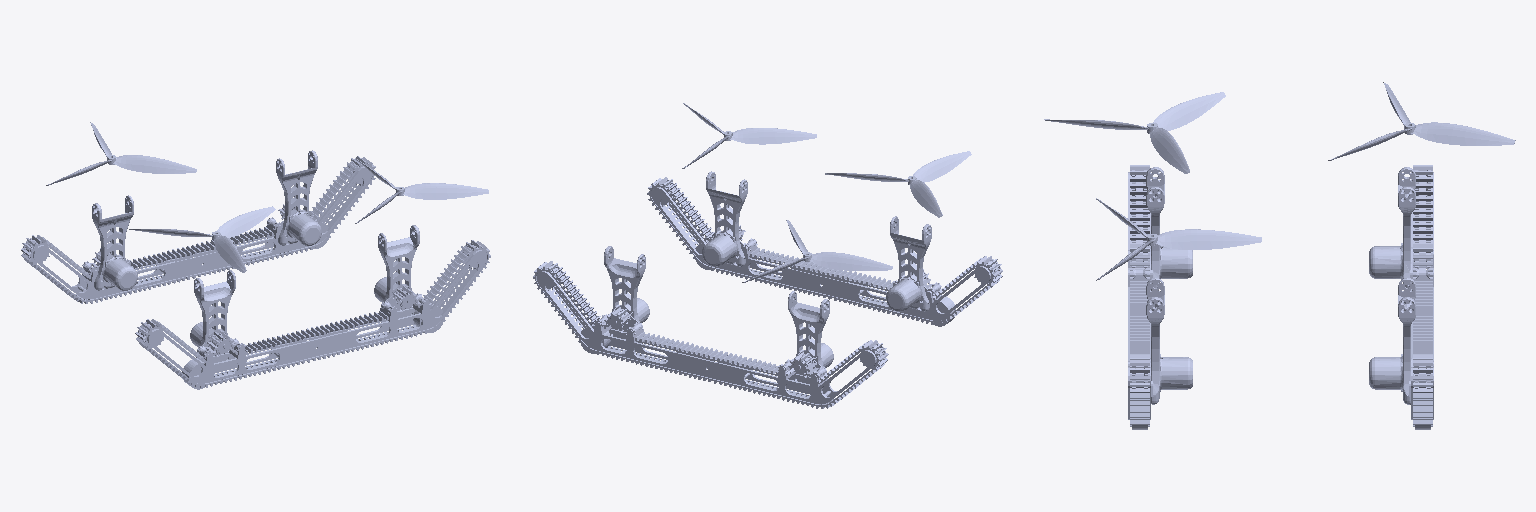
The robot description file, URDF, robot "amphibious":
<?xml version="1.0" encoding="utf-8"?>
<!-- This URDF was automatically created by SolidWorks to URDF Exporter! Originally created by Stephen Brawner (brawner@gmail.com) 
     Commit Version: 1.6.0-4-g7f85cfe  Build Version: 1.6.7995.38578
     For more information, please see http://wiki.ros.org/sw_urdf_exporter -->
<robot
  name="amphibious">
  <link
    name="base_link">
    <inertial>
      <origin
        xyz="0.00270590411977915 -0.000777804279113158 -0.0038969069995069"
        rpy="0 0 0" />
      <mass
        value="1.01735652605602" />
      <inertia
        ixx="0.00653955544069661"
        ixy="-0.000145472575179364"
        ixz="-0.000147199308938309"
        iyy="0.0155666368669926"
        iyz="4.67328671519751E-06"
        izz="0.0202675932630787" />
    </inertial>
    <visual>
      <origin
        xyz="0 0 0"
        rpy="0 0 0" />
      <geometry>
        <mesh
          filename="package://amphibious_description/meshes/base_link.STL" />
      </geometry>
      <material
        name="">
        <color
          rgba="0.792156862745098 0.819607843137255 0.933333333333333 1" />
      </material>
    </visual>
    <collision>
      <origin
        xyz="0 0 0"
        rpy="0 0 0" />
      <geometry>
        <mesh
          filename="package://amphibious_description/meshes/base_link.STL" />
      </geometry>
    </collision>
  </link>
  <link
    name="front_left_link">
    <inertial>
      <origin
        xyz="1.29093144882186E-06 -8.00972545067502E-06 -0.00437727561682061"
        rpy="0 0 0" />
      <mass
        value="0.0276709889657561" />
      <inertia
        ixx="5.48345801850678E-05"
        ixy="-6.08257931774842E-09"
        ixz="7.08958707724225E-10"
        iyy="5.48163551972365E-05"
        iyz="9.20463476615314E-11"
        izz="0.000108803106386462" />
    </inertial>
    <visual>
      <origin
        xyz="0 0 0"
        rpy="0 0 0" />
      <geometry>
        <mesh
          filename="package://amphibious_description/meshes/front_left_link.STL" />
      </geometry>
      <material
        name="">
        <color
          rgba="0.792156862745098 0.819607843137255 0.933333333333333 1" />
      </material>
    </visual>
    <collision>
      <origin
        xyz="0 0 0"
        rpy="0 0 0" />
      <geometry>
        <mesh
          filename="package://amphibious_description/meshes/front_left_link.STL" />
      </geometry>
    </collision>
  </link>
  <joint
    name="front_left_joint"
    type="continuous">
    <origin
      xyz="0.15948 0.1565 0.073247"
      rpy="0 0 0" />
    <parent
      link="base_link" />
    <child
      link="front_left_link" />
    <axis
      xyz="0 0 1" />
  </joint>
  <link
    name="front_right_link">
    <inertial>
      <origin
        xyz="-5.14354515876447E-06 -3.32573533587399E-06 -0.00437715492996982"
        rpy="0 0 0" />
      <mass
        value="0.0276722597367738" />
      <inertia
        ixx="5.48280876964765E-05"
        ixy="2.83473180548925E-10"
        ixz="-6.46469716944244E-10"
        iyy="5.48486786099491E-05"
        iyz="-4.76681622683081E-10"
        izz="0.000108828865361431" />
    </inertial>
    <visual>
      <origin
        xyz="0 0 0"
        rpy="0 0 0" />
      <geometry>
        <mesh
          filename="package://amphibious_description/meshes/front_right_link.STL" />
      </geometry>
      <material
        name="">
        <color
          rgba="0.792156862745098 0.819607843137255 0.933333333333333 1" />
      </material>
    </visual>
    <collision>
      <origin
        xyz="0 0 0"
        rpy="0 0 0" />
      <geometry>
        <mesh
          filename="package://amphibious_description/meshes/front_right_link.STL" />
      </geometry>
    </collision>
  </link>
  <joint
    name="front_right_joint"
    type="continuous">
    <origin
      xyz="0.15948 -0.1565 0.073247"
      rpy="0 0 0" />
    <parent
      link="base_link" />
    <child
      link="front_right_link" />
    <axis
      xyz="0 0 1" />
  </joint>
  <link
    name="back_left_link">
    <inertial>
      <origin
        xyz="-6.98179041319635E-06 8.7129631942684E-07 -0.00437713650333883"
        rpy="0 0 0" />
      <mass
        value="0.0276720462761253" />
      <inertia
        ixx="5.48190460860862E-05"
        ixy="-5.44839360988142E-09"
        ixz="-1.25899374765416E-10"
        iyy="5.48342362711538E-05"
        iyz="-1.12983641712843E-09"
        izz="0.000108805406639433" />
    </inertial>
    <visual>
      <origin
        xyz="0 0 0"
        rpy="0 0 0" />
      <geometry>
        <mesh
          filename="package://amphibious_description/meshes/back_left_link.STL" />
      </geometry>
      <material
        name="">
        <color
          rgba="0.792156862745098 0.819607843137255 0.933333333333333 1" />
      </material>
    </visual>
    <collision>
      <origin
        xyz="0 0 0"
        rpy="0 0 0" />
      <geometry>
        <mesh
          filename="package://amphibious_description/meshes/back_left_link.STL" />
      </geometry>
    </collision>
  </link>
  <joint
    name="back_left_joint"
    type="continuous">
    <origin
      xyz="-0.15948 0.1565 0.073247"
      rpy="0 0 0" />
    <parent
      link="base_link" />
    <child
      link="back_left_link" />
    <axis
      xyz="0 0 1" />
  </joint>
  <link
    name="back_right_link">
    <inertial>
      <origin
        xyz="1.29087842759557E-06 -8.00961504293651E-06 -0.004377275682482"
        rpy="0 0 0" />
      <mass
        value="0.0276709887521579" />
      <inertia
        ixx="5.48345801527662E-05"
        ixy="-6.08258501359831E-09"
        ixz="7.0896261189936E-10"
        iyy="5.48163551789338E-05"
        iyz="9.20538267663622E-11"
        izz="0.000108803106339897" />
    </inertial>
    <visual>
      <origin
        xyz="0 0 0"
        rpy="0 0 0" />
      <geometry>
        <mesh
          filename="package://amphibious_description/meshes/back_right_link.STL" />
      </geometry>
      <material
        name="">
        <color
          rgba="0.792156862745098 0.819607843137255 0.933333333333333 1" />
      </material>
    </visual>
    <collision>
      <origin
        xyz="0 0 0"
        rpy="0 0 0" />
      <geometry>
        <mesh
          filename="package://amphibious_description/meshes/back_right_link.STL" />
      </geometry>
    </collision>
  </link>
  <joint
    name="back_right_joint"
    type="continuous">
    <origin
      xyz="-0.15948 -0.1565 0.073247"
      rpy="0 0 0" />
    <parent
      link="base_link" />
    <child
      link="back_right_link" />
    <axis
      xyz="0 0 1" />
  </joint>
  <link
    name="left_link">
    <inertial>
      <origin
        xyz="-0.00143154372335368 0.0079156961985527 -0.098678446334195"
        rpy="0 0 0" />
      <mass
        value="0.396661536197525" />
      <inertia
        ixx="0.000671694166975538"
        ixy="1.20096218347438E-05"
        ixz="4.60043959091728E-06"
        iyy="0.0131366492933799"
        iyz="3.64876942890667E-05"
        izz="0.0126847585426908" />
    </inertial>
    <visual>
      <origin
        xyz="0 0 0"
        rpy="0 0 0" />
      <geometry>
        <mesh
          filename="package://amphibious_description/meshes/left_link.STL" />
      </geometry>
      <material
        name="">
        <color
          rgba="0.792156862745098 0.819607843137255 0.933333333333333 1" />
      </material>
    </visual>
    <collision>
      <origin
        xyz="0 0 0"
        rpy="0 0 0" />
      <geometry>
        <mesh
          filename="package://amphibious_description/meshes/left_link.STL" />
      </geometry>
    </collision>
  </link>
  <joint
    name="left_joint"
    type="revolute">
    <origin
      xyz="0 0.153 -0.00752"
      rpy="0 0 0" />
    <parent
      link="base_link" />
    <child
      link="left_link" />
    <axis
      xyz="1 0 0" />
    <limit
      lower="0"
      upper="1.57"
      effort="50"
      velocity="2.0" />
    <dynamics damping="1.0" friction="0.5" />
  </joint>
  <link
    name="front_left_wheel_link">
    <inertial>
      <origin
        xyz="0 0 0"
        rpy="0 0 0" />
      <mass
        value="0.0274732277556427" />
      <inertia
        ixx="4.26235681450565E-06"
        ixy="-3.12930917762062E-21"
        ixz="1.93904921925967E-22"
        iyy="6.69316511196846E-06"
        iyz="2.02328090369897E-20"
        izz="4.26235681450565E-06" />
    </inertial>
    <visual>
      <origin
        xyz="0 0 0"
        rpy="0 0 0" />
      <geometry>
        <mesh
          filename="package://amphibious_description/meshes/front_left_wheel_link.STL" />
      </geometry>
      <material
        name="">
        <color
          rgba="0.792156862745098 0.819607843137255 0.933333333333333 1" />
      </material>
    </visual>
    <collision>
      <origin
        xyz="0 0 0"
        rpy="0 0 0" />
      <geometry>
        <mesh
          filename="package://amphibious_description/meshes/front_left_wheel_link.STL" />
      </geometry>
    </collision>
  </link>
  <joint
    name="front_left_wheel_joint"
    type="continuous">
    <origin
      xyz="0.20016 0.019 -0.1364"
      rpy="0 0 0" />
    <parent
      link="left_link" />
    <child
      link="front_left_wheel_link" />
    <axis
      xyz="0 1 0" />
  </joint>
  <link
    name="back_left_wheel_link">
    <inertial>
      <origin
        xyz="2.77555756156289E-17 0 0"
        rpy="0 0 0" />
      <mass
        value="0.0274732277556427" />
      <inertia
        ixx="4.26235681450565E-06"
        ixy="-3.12930917762062E-21"
        ixz="1.93904921925967E-22"
        iyy="6.69316511196846E-06"
        iyz="2.02328090369897E-20"
        izz="4.26235681450565E-06" />
    </inertial>
    <visual>
      <origin
        xyz="0 0 0"
        rpy="0 0 0" />
      <geometry>
        <mesh
          filename="package://amphibious_description/meshes/back_left_wheel_link.STL" />
      </geometry>
      <material
        name="">
        <color
          rgba="0.792156862745098 0.819607843137255 0.933333333333333 1" />
      </material>
    </visual>
    <collision>
      <origin
        xyz="0 0 0"
        rpy="0 0 0" />
      <geometry>
        <mesh
          filename="package://amphibious_description/meshes/back_left_wheel_link.STL" />
      </geometry>
    </collision>
  </link>
  <joint
    name="back_left_wheel_joint"
    type="continuous">
    <origin
      xyz="-0.20016 0.019 -0.1364"
      rpy="0 0 0" />
    <parent
      link="left_link" />
    <child
      link="back_left_wheel_link" />
    <axis
      xyz="0 1 0" />
  </joint>
  <link
    name="right_link">
    <inertial>
      <origin
        xyz="-0.00143084446196562 -0.00791565004548878 -0.0986782813020985"
        rpy="0 0 0" />
      <mass
        value="0.396663325676347" />
      <inertia
        ixx="0.000671697583830792"
        ixy="-1.20124794224642E-05"
        ixz="4.60026615978317E-06"
        iyy="0.0131366807952159"
        iyz="-3.64882645287992E-05"
        izz="0.0126847868322065" />
    </inertial>
    <visual>
      <origin
        xyz="0 0 0"
        rpy="0 0 0" />
      <geometry>
        <mesh
          filename="package://amphibious_description/meshes/right_link.STL" />
      </geometry>
      <material
        name="">
        <color
          rgba="0.792156862745098 0.819607843137255 0.933333333333333 1" />
      </material>
    </visual>
    <collision>
      <origin
        xyz="0 0 0"
        rpy="0 0 0" />
      <geometry>
        <mesh
          filename="package://amphibious_description/meshes/right_link.STL" />
      </geometry>
    </collision>
  </link>
  <joint
    name="right_joint"
    type="revolute">
    <origin
      xyz="0 -0.153 -0.0075"
      rpy="0 0 0" />
    <parent
      link="base_link" />
    <child
      link="right_link" />
    <axis
      xyz="-1 0 0" />
    <limit
      lower="0"
      upper="1.57"
      effort="50"
      velocity="2.0" />
    <dynamics damping="1.0" friction="0.5" />
  </joint>
  <link
    name="front_right_wheel_link">
    <inertial>
      <origin
        xyz="-2.77555756156289E-17 -2.77555756156289E-17 2.77555756156289E-17"
        rpy="0 0 0" />
      <mass
        value="0.0274732277556427" />
      <inertia
        ixx="4.26235681450565E-06"
        ixy="-1.99851656831276E-23"
        ixz="1.34942453887426E-22"
        iyy="6.69316511196846E-06"
        iyz="-2.03026791254472E-20"
        izz="4.26235681450565E-06" />
    </inertial>
    <visual>
      <origin
        xyz="0 0 0"
        rpy="0 0 0" />
      <geometry>
        <mesh
          filename="package://amphibious_description/meshes/front_right_wheel_link.STL" />
      </geometry>
      <material
        name="">
        <color
          rgba="0.792156862745098 0.819607843137255 0.933333333333333 1" />
      </material>
    </visual>
    <collision>
      <origin
        xyz="0 0 0"
        rpy="0 0 0" />
      <geometry>
        <mesh
          filename="package://amphibious_description/meshes/front_right_wheel_link.STL" />
      </geometry>
    </collision>
  </link>
  <joint
    name="front_right_wheel_joint"
    type="continuous">
    <origin
      xyz="0.20016 -0.019 -0.1364"
      rpy="0 0 0" />
    <parent
      link="right_link" />
    <child
      link="front_right_wheel_link" />
    <axis
      xyz="0 1 0" />
  </joint>
  <link
    name="back_right_wheel_link">
    <inertial>
      <origin
        xyz="2.77555756156289E-17 -2.77555756156289E-17 0"
        rpy="0 0 0" />
      <mass
        value="0.0274732277556427" />
      <inertia
        ixx="4.26235681450565E-06"
        ixy="-1.06929631320073E-22"
        ixz="-1.80006564342138E-22"
        iyy="6.69316511196846E-06"
        iyz="-2.03275287827747E-20"
        izz="4.26235681450565E-06" />
    </inertial>
    <visual>
      <origin
        xyz="0 0 0"
        rpy="0 0 0" />
      <geometry>
        <mesh
          filename="package://amphibious_description/meshes/back_right_wheel_link.STL" />
      </geometry>
      <material
        name="">
        <color
          rgba="0.792156862745098 0.819607843137255 0.933333333333333 1" />
      </material>
    </visual>
    <collision>
      <origin
        xyz="0 0 0"
        rpy="0 0 0" />
      <geometry>
        <mesh
          filename="package://amphibious_description/meshes/back_right_wheel_link.STL" />
      </geometry>
    </collision>
  </link>
  <joint
    name="back_right_wheel_joint"
    type="continuous">
    <origin
      xyz="-0.20016 -0.019 -0.1364"
      rpy="0 0 0" />
    <parent
      link="right_link" />
    <child
      link="back_right_wheel_link" />
    <axis
      xyz="0 1 0" />
    <limit
      lower="0"
      upper="0"
      effort="0"
      velocity="0" />
  </joint>

 
</robot>

--- Render facts (derived) ---
The picture shows the robot from 3 angles, left to right: view 1: azimuth 30°, elevation 25°; view 2: azimuth 150°, elevation 25°; view 3: azimuth 270°, elevation 25°; orthographic projection.
Robot: amphibious — 11 links, 10 joints (2 revolute, 8 continuous); root link base_link; default pose: all joints at 0.
Links seen in each view (by area): view 1: right_link, left_link, back_right_link, back_left_link, front_right_link; view 2: left_link, right_link, back_right_link, back_left_link, front_right_link; view 3: left_link, right_link, back_right_link, back_left_link, front_right_link.
Boxes of the visible links, x1,y1,x2,y2 form: right_link: (135, 225, 490, 387); left_link: (21, 150, 375, 303); back_right_link: (129, 206, 275, 272); back_left_link: (46, 122, 196, 185); front_right_link: (355, 158, 488, 223); left_link: (533, 246, 888, 408); right_link: (647, 171, 1002, 324); back_right_link: (825, 151, 971, 217); back_left_link: (742, 220, 892, 282); front_right_link: (682, 103, 816, 168); left_link: (1369, 165, 1433, 426); right_link: (1128, 165, 1192, 426); back_right_link: (1044, 92, 1225, 173); back_left_link: (1328, 82, 1515, 160); front_right_link: (1096, 198, 1261, 280).
Bounding box of the posed robot: 0.6036 × 0.5727 × 0.2434 m (x, y, z).
8 mesh visuals loaded from 11 distinct referenced files (8 binary STL); not drawn: 3 (reference not matched to a file when rendering).
